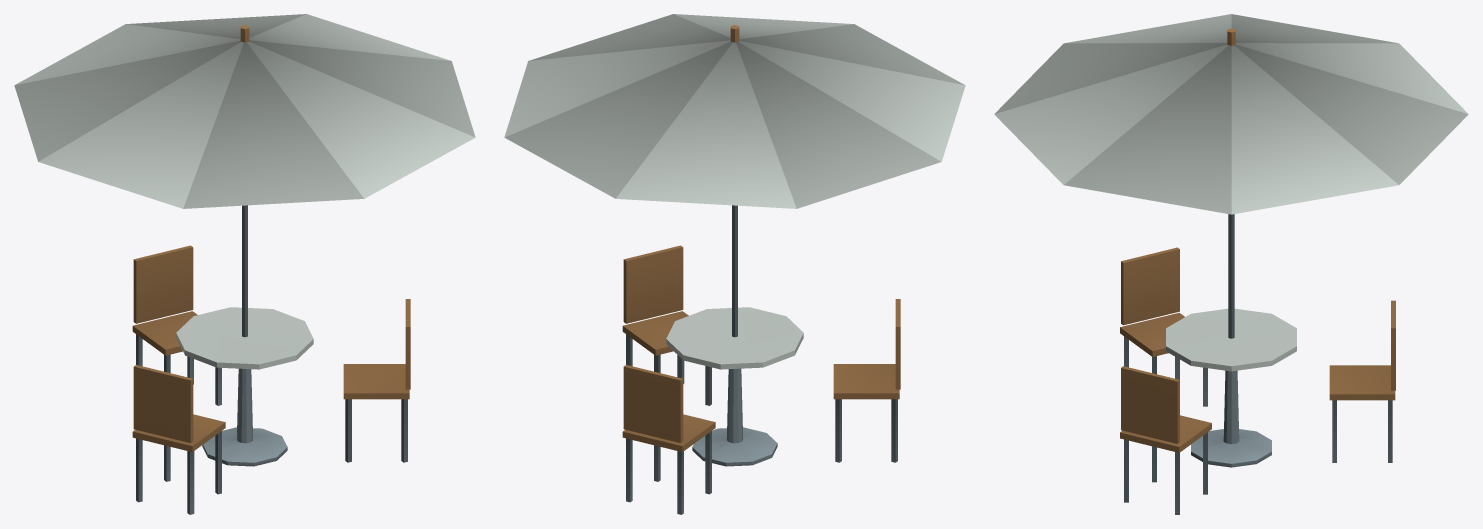
File: cafe-set.lod1.glb
The picture shows the model from 3 angles, left to right: view 1: azimuth 30°, elevation 25°; view 2: azimuth 150°, elevation 25°; view 3: azimuth 270°, elevation 25°; orthographic projection.
Parts seen in each view (by area): view 1: structure; view 2: structure; view 3: structure.
Boxes of the visible parts, bbox=[...] form: structure: bbox=[14, 14, 475, 514]; structure: bbox=[504, 14, 965, 514]; structure: bbox=[994, 14, 1468, 514].
Bounding box in the file's own units: 2.9 × 2.82 × 2.9.
